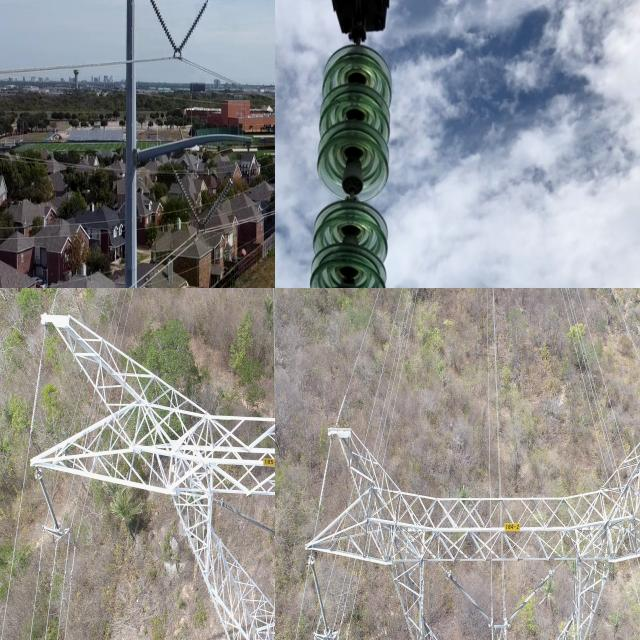杆塔: (33, 296, 275, 640), (312, 392, 640, 640)
正常绝缘子: (309, 45, 389, 288), (300, 548, 338, 640), (445, 568, 494, 630), (31, 467, 67, 548), (504, 570, 553, 629), (195, 169, 239, 234), (170, 0, 213, 65), (170, 159, 205, 233), (218, 496, 275, 541), (145, 0, 182, 61)
绝缘子破损: (338, 169, 370, 198)
